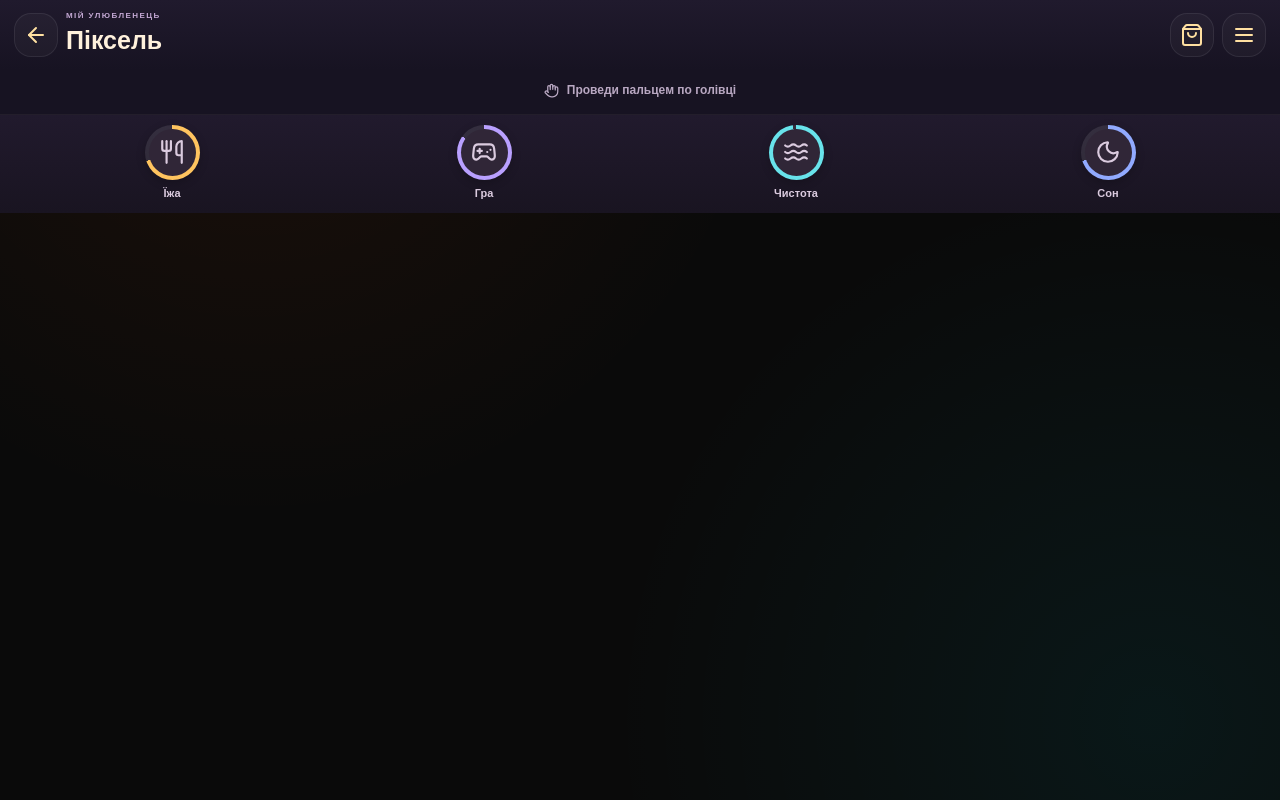
Test: visual-first pet screen › a clean room says so before the player attempts a scrub
Click the button "Чистота" at (796, 163), box [644,124,948,201]
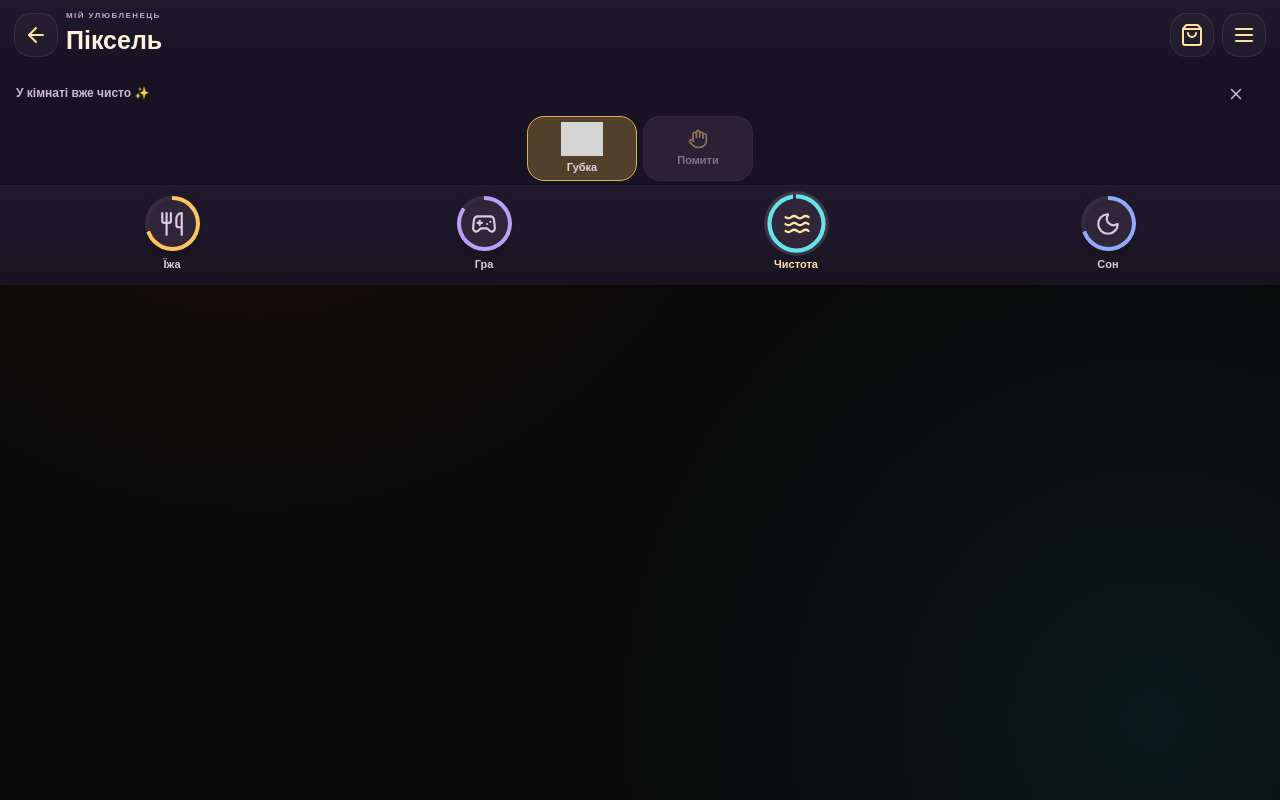
Expected: the element showing "У кімнаті вже чисто ✨" is shown, [16,72,1264,116]
Expected: the button "Помити" is disabled, [643,116,753,181]
